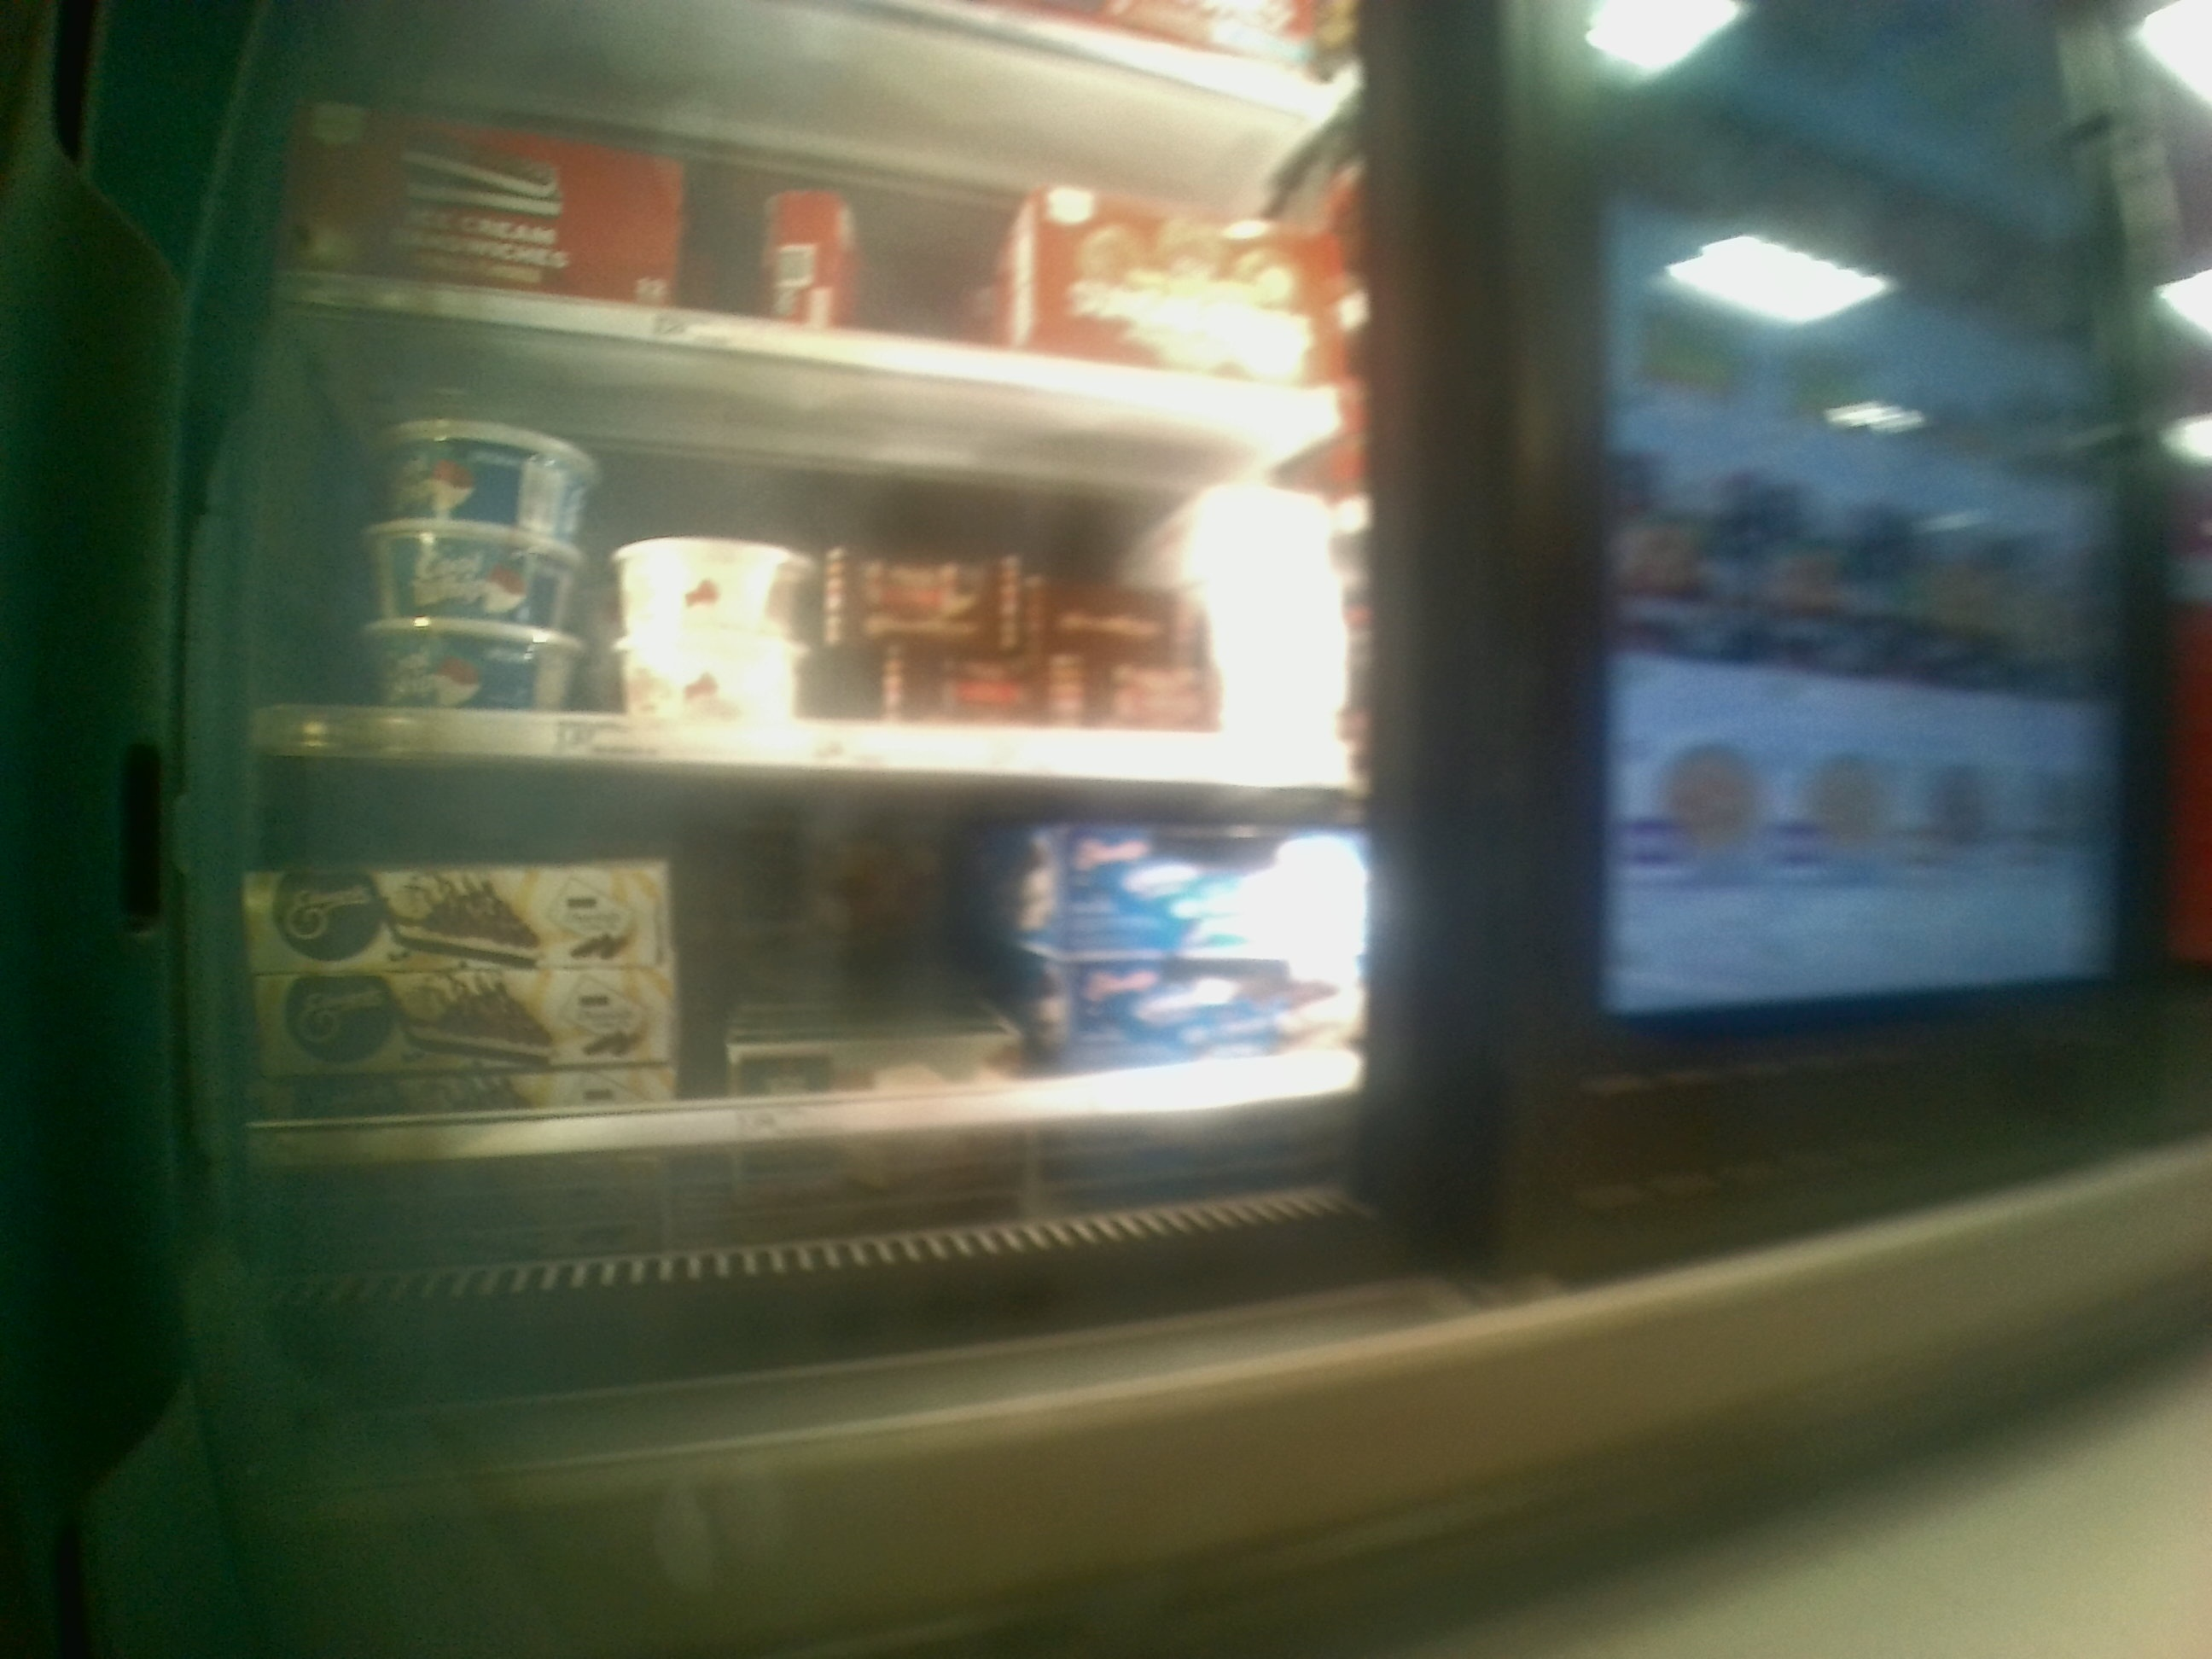frozen-food-shelf: (240, 322, 1399, 793), (228, 796, 1379, 1175)
